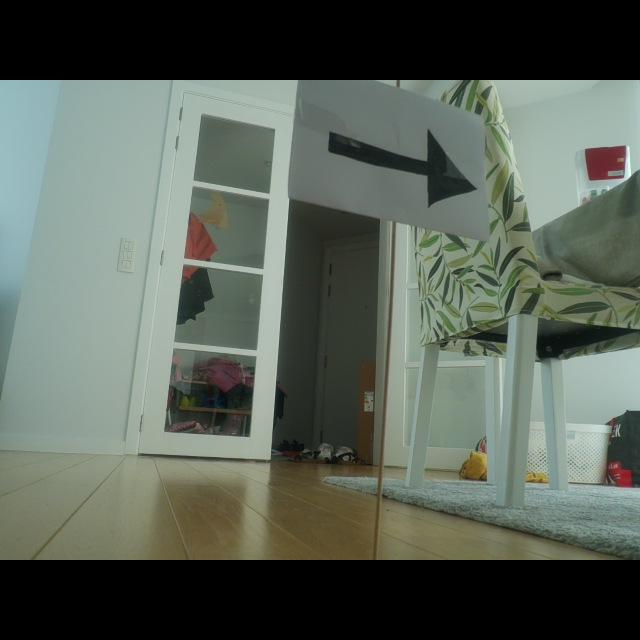jobbra_nyil: (328, 131, 475, 206)
